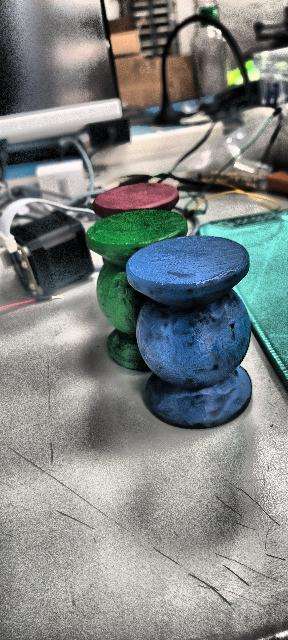blue: (126, 234, 252, 428)
green: (87, 209, 187, 373)
red: (84, 178, 186, 218)
